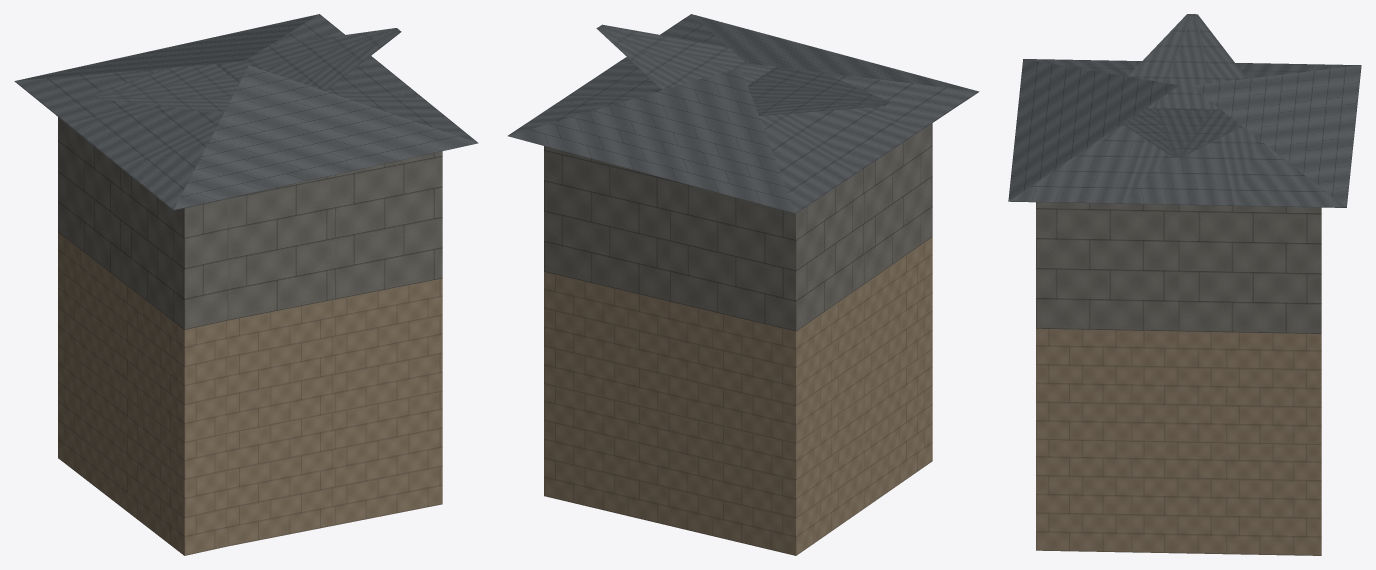
File: bld_c10_16_451.gltf
The picture shows the model from 3 angles, left to right: view 1: azimuth 30°, elevation 25°; view 2: azimuth 150°, elevation 25°; view 3: azimuth 270°, elevation 25°; orthographic projection.
Parts seen in each view (by area): view 1: bld_c10_16_451; view 2: bld_c10_16_451; view 3: bld_c10_16_451.
Part boxes in pixels (x1,y1,x2,y2): bld_c10_16_451: (14,14,478,555); bld_c10_16_451: (508,14,979,555); bld_c10_16_451: (1008,14,1361,555).
Bounding box in the file's own units: 6.67 × 8.5 × 6.68.
Materials: 3 (3 with a texture image).
